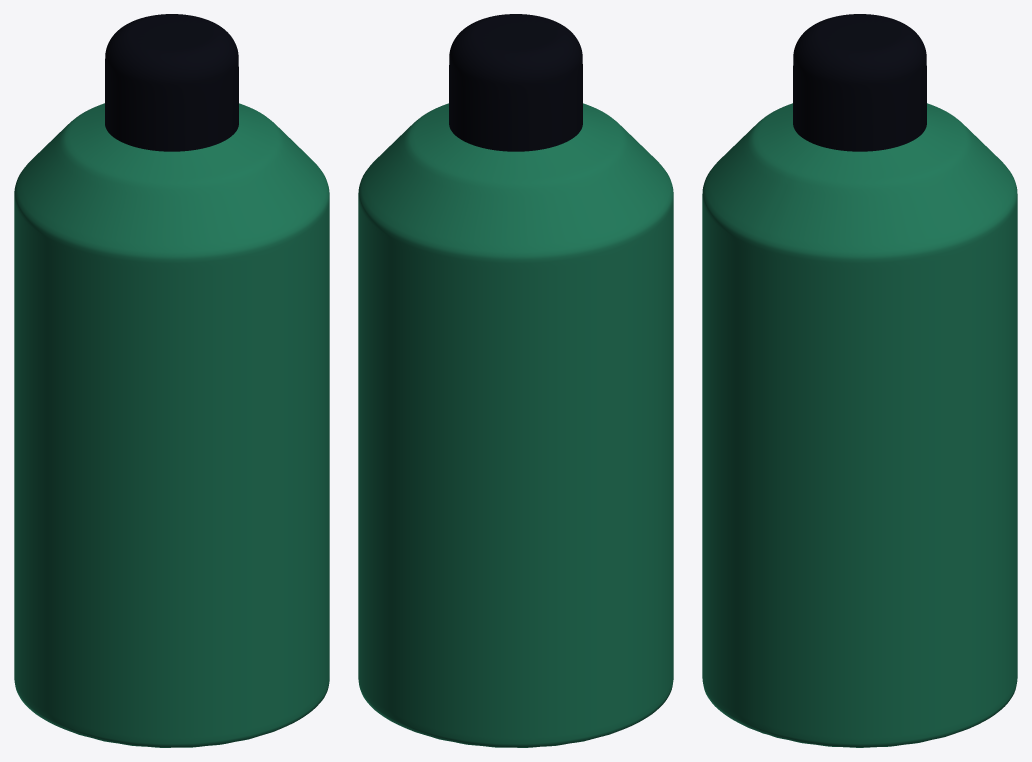
Rendered from Bottle.obj.
3 views of the same model, side by side, from view 1: azimuth 30°, elevation 25°; view 2: azimuth 150°, elevation 25°; view 3: azimuth 270°, elevation 25° (orthographic).
Visible parts, largest first — view 1: Circle, Circle.001; view 2: Circle, Circle.001; view 3: Circle, Circle.001.
Part boxes in pixels (<box>): Circle: <box>14,103,329,747</box>; Circle.001: <box>105,14,238,151</box>; Circle: <box>358,103,673,747</box>; Circle.001: <box>449,14,582,151</box>; Circle: <box>702,103,1017,747</box>; Circle.001: <box>793,14,926,151</box>.
Bounding box in the file's own units: 1.45 × 3.31 × 1.45.
